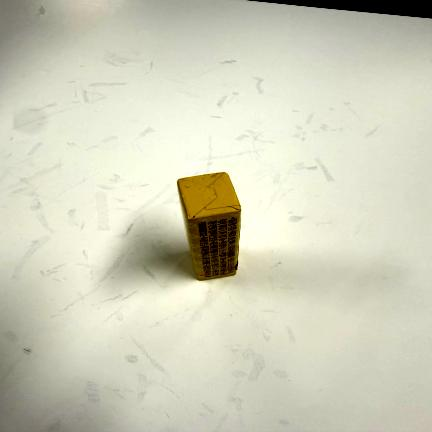gum_yellow: (179, 171, 241, 280)
